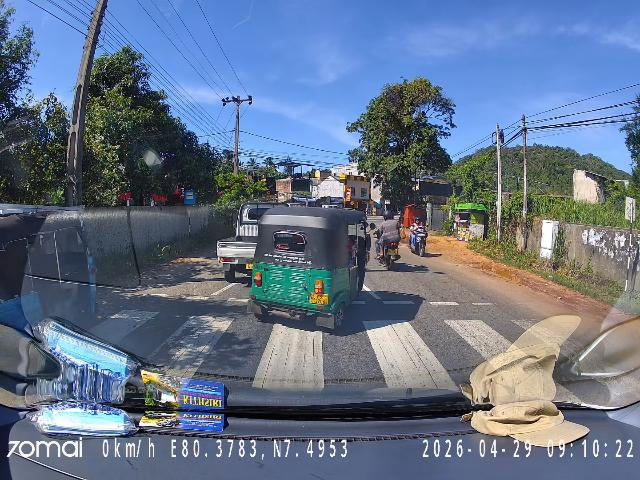illegal overtaking: (0, 205, 106, 324)
